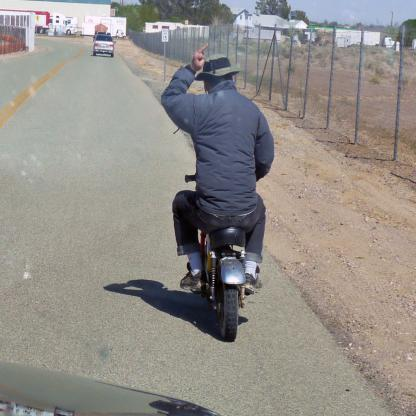car: (90, 33, 116, 61)
motorcycle: (184, 173, 246, 341)
